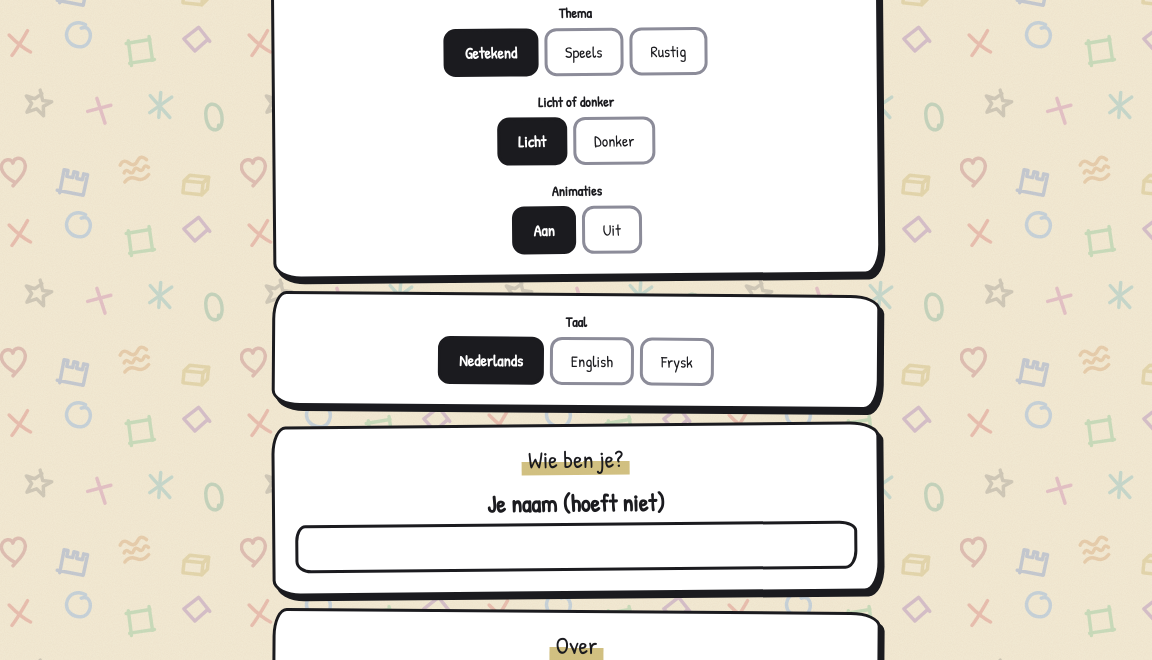
the language › changes every text at once, the title and lang of the page, and is kept
(page scrolled)
Click the button "English". click: (592, 361)
box: [550, 337, 634, 385]
(page scrolled)
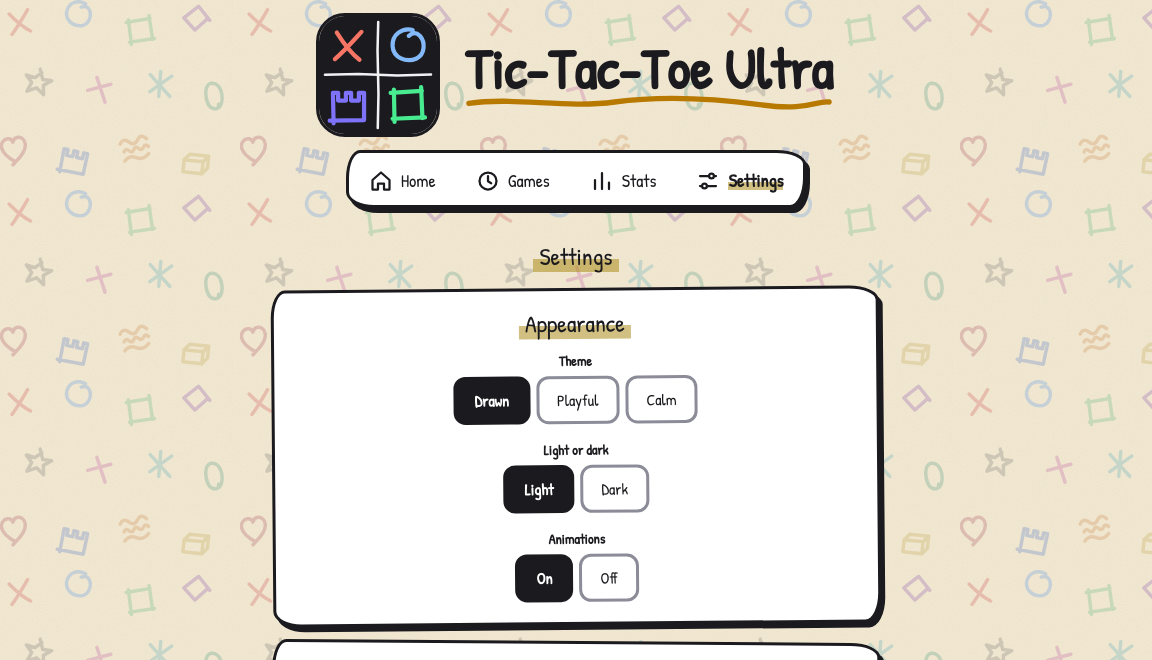
Expected: the heading "Settings" is shown, [533, 240, 619, 272]
Now the navigation bar named "Main menu" shows "Games", box [460, 157, 566, 205]
Now the text "Tic-Tac-Toe Ultra" is shown, box [465, 40, 833, 110]
